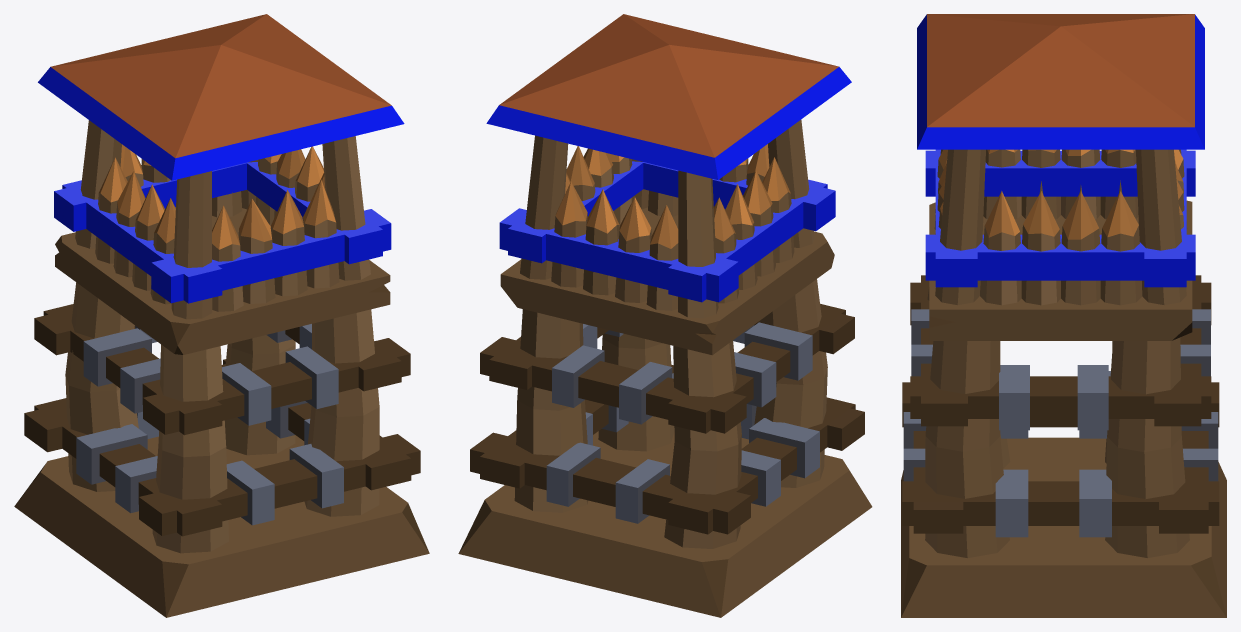
Rendered from Tower4.fbx.
3 views of the same model, side by side, from view 1: azimuth 30°, elevation 25°; view 2: azimuth 150°, elevation 25°; view 3: azimuth 270°, elevation 25° (orthographic). The views are drawn at different scales.
Visible parts, largest first — view 1: Tower4; view 2: Tower4; view 3: Tower4.
Part boxes in pixels (x1,y1,x2,y2): Tower4: (14,14,429,617); Tower4: (458,14,872,617); Tower4: (901,14,1226,617).
Size of the model in its own units: 500 by 883 by 500.
